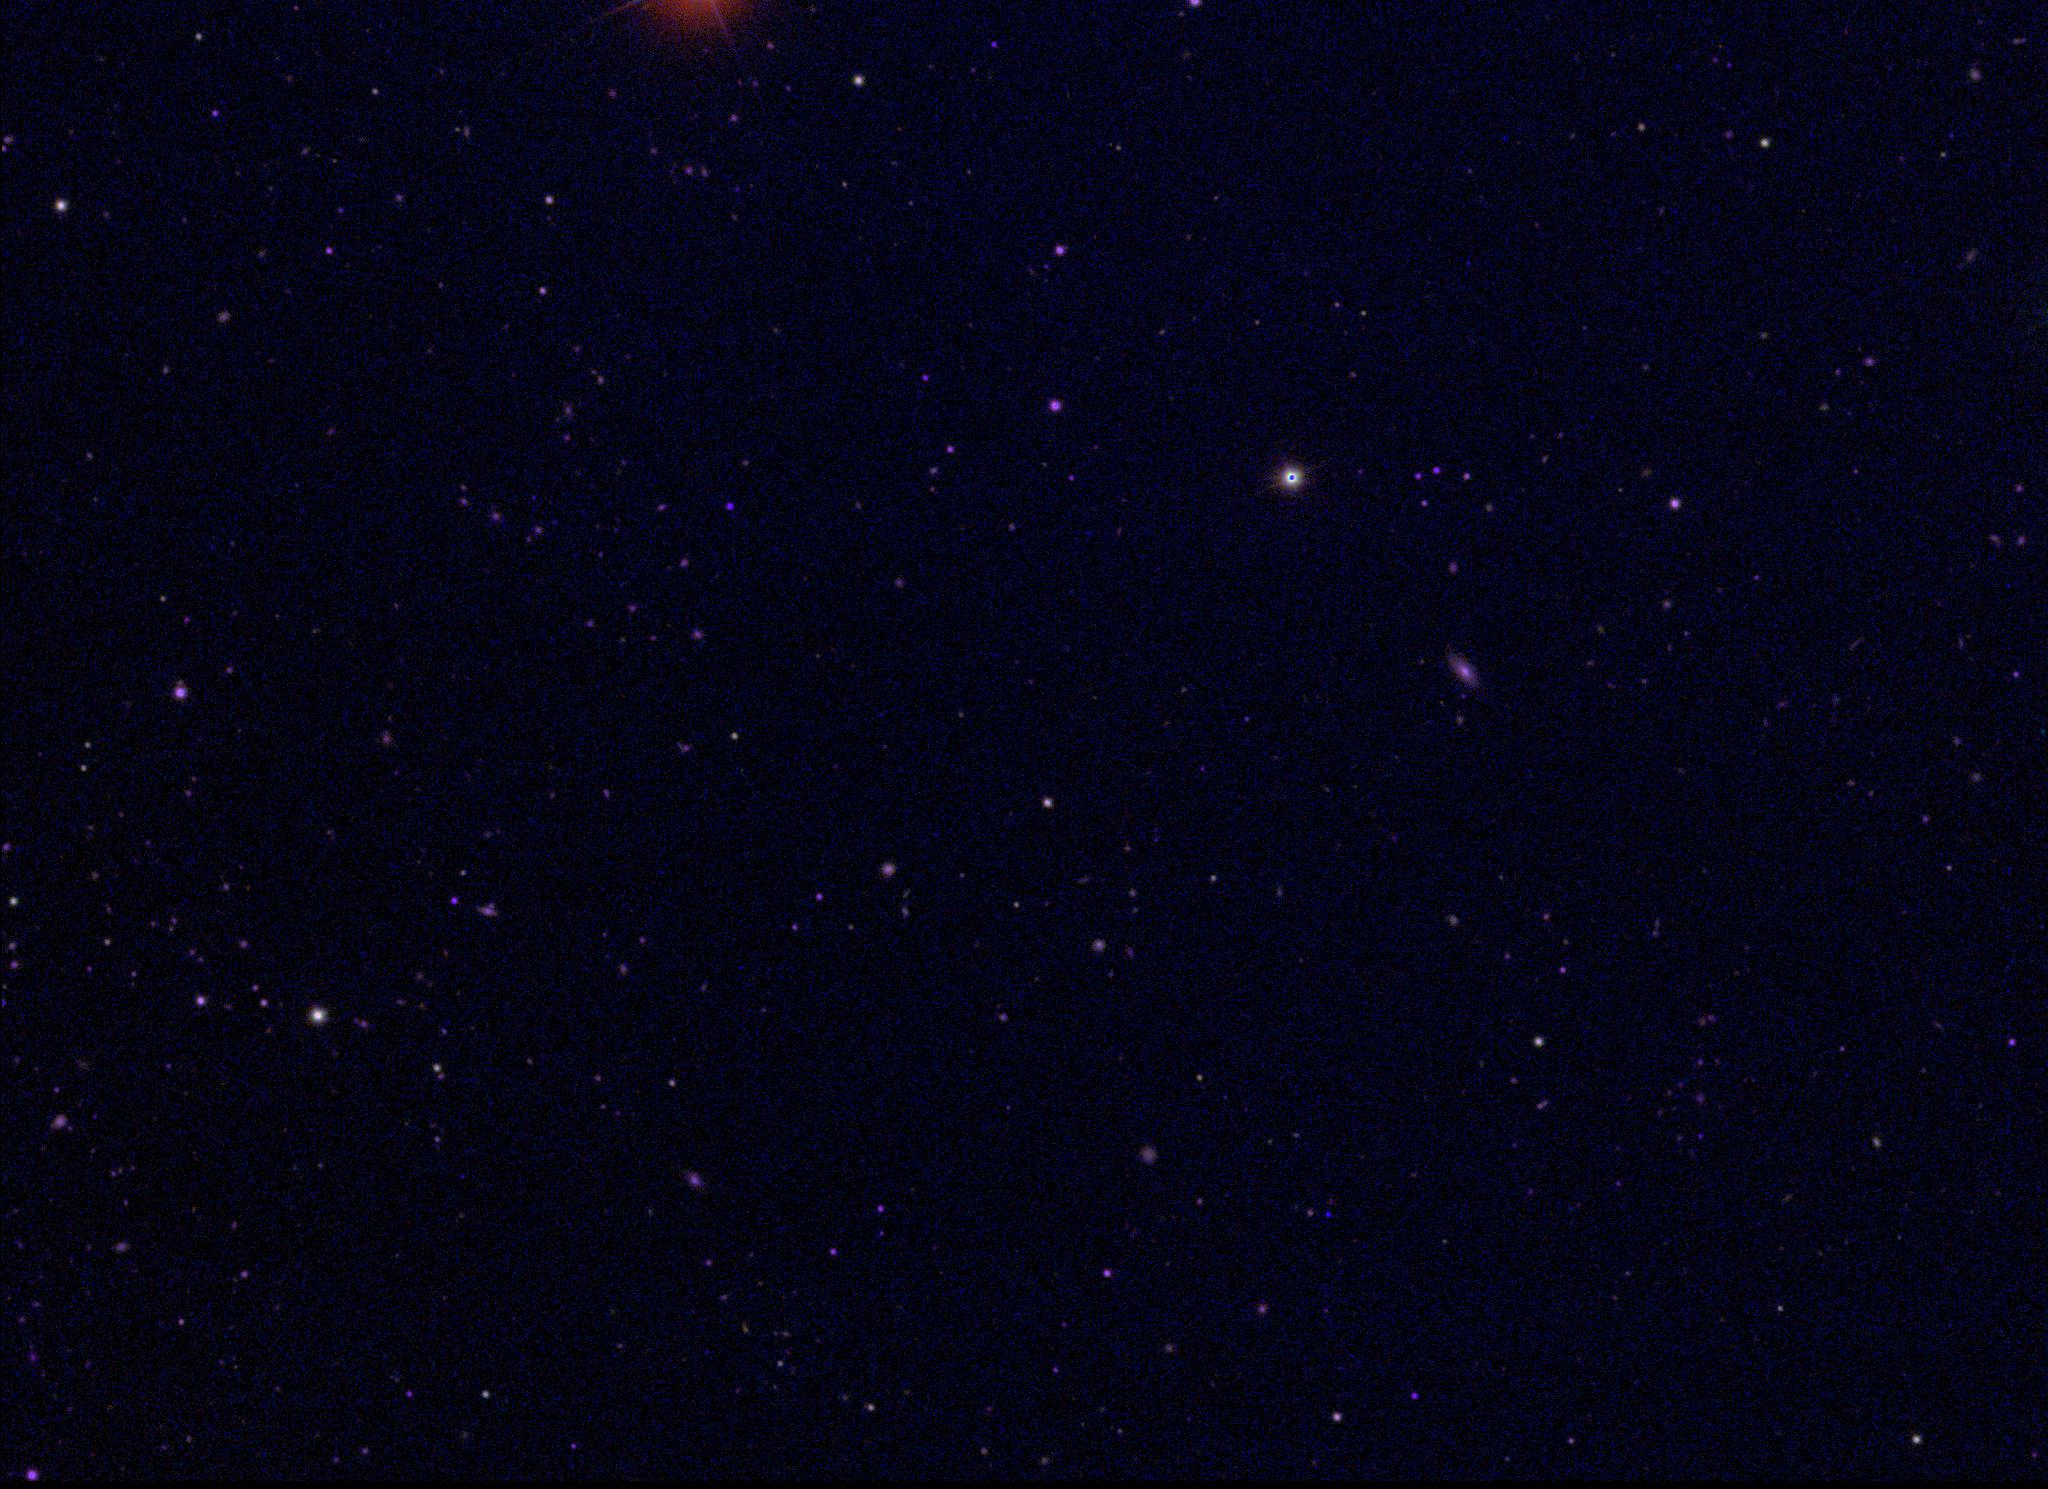L: (1321, 1211, 1336, 1223)
